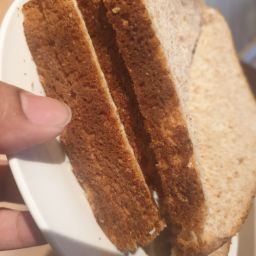Breads: (29, 8, 256, 256), (13, 2, 229, 256)
